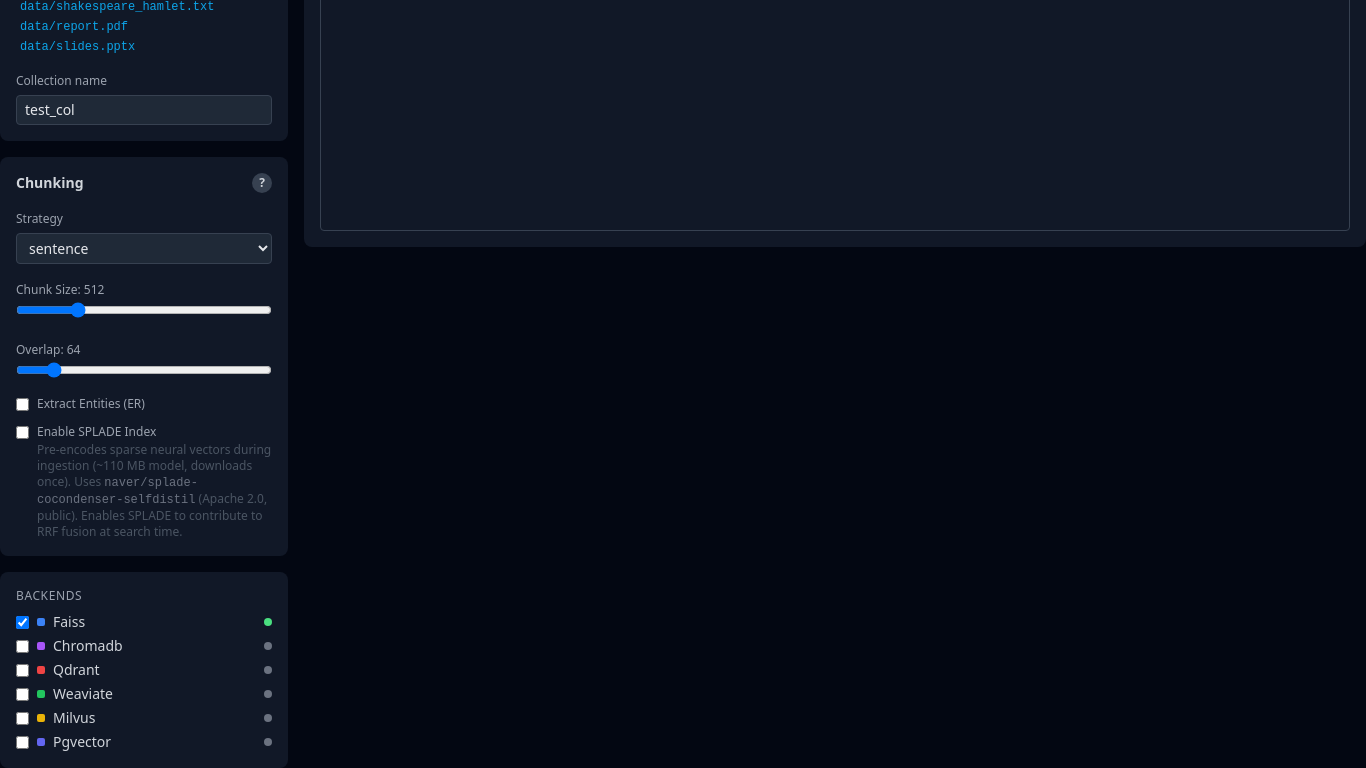
Test: IngestionStudio — server path quick-picks include PDF/PPTX › clicking PDF quick-pick fills the server path input
(page scrolled)
Click the button "data/report.pdf" at {"x": 144, "y": 27}, box [16,19,272,35]
(page scrolled)
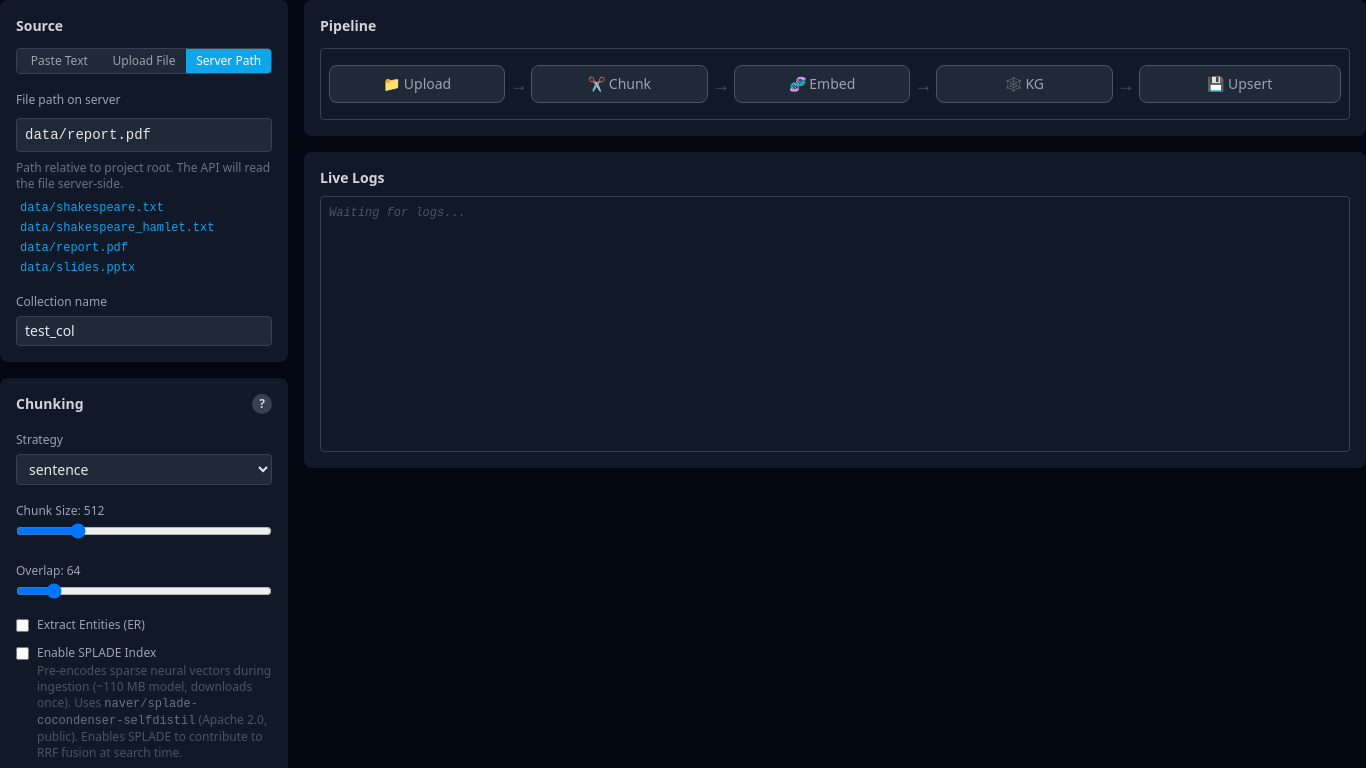
Result: the field with placeholder "data/shakespeare.txt" below "File path on server" holds "data/report.pdf" at [16,118,272,152]
